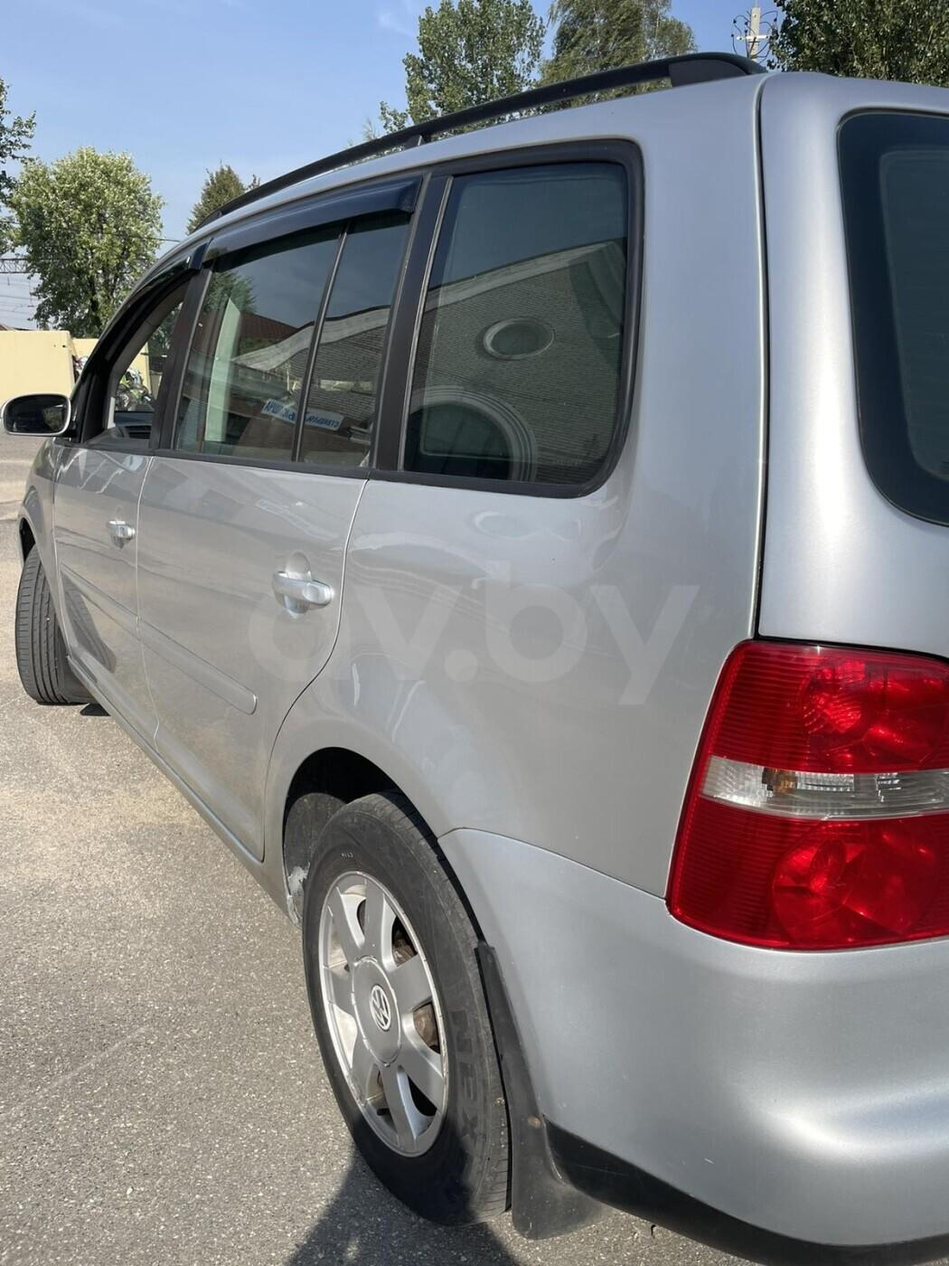Touran_2003-2006: (5, 76, 949, 1266)
